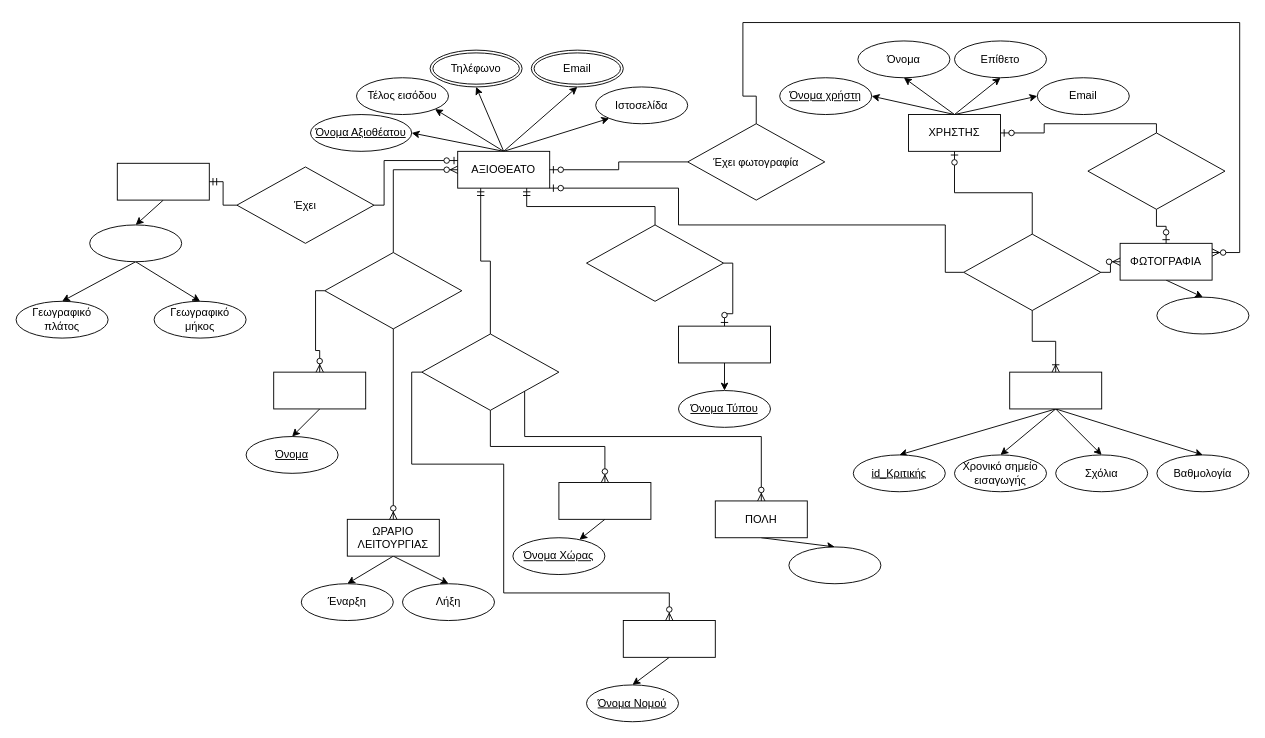
Image size: 1265x738. Some labels were removed from this diagram. The shapes that lost their labels are listed below. From the top down, each one's centre as x and y in pixels, then its label:
(x=162, y=181): ΧΑΡΤΗΣ
(x=1156, y=170): Έχει φωτογραφία προφίλ
(x=135, y=243): Συντεταγμένες
(x=655, y=262): Είναι τύπου
(x=393, y=290): Λειτουργεί
(x=1032, y=271): Αποτελείτε
(x=1202, y=315): Url
(x=724, y=344): ΤΥΠΟΣ ΑΞΙΟΘΕΑΤΟΥ
(x=319, y=390): ΗΜΕΡΑ
(x=490, y=371): Ανήκει
(x=1055, y=390): ΚΡΙΤΙΚΗ
(x=604, y=500): ΧΩΡΑ
(x=834, y=565): Όνομα Πόλης
(x=668, y=638): ΝΟΜΟΣ
